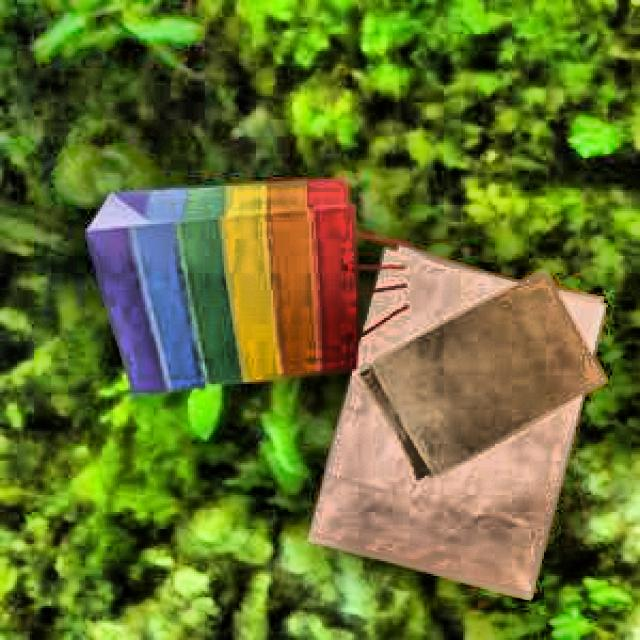Paper-bag: (301, 244, 611, 604), (76, 171, 375, 398), (354, 264, 607, 498)
